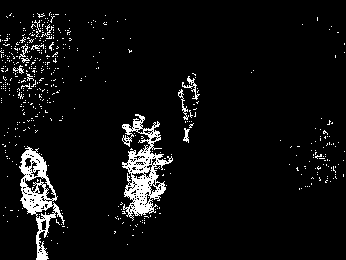person: (15, 148, 69, 260), (176, 71, 203, 147)
